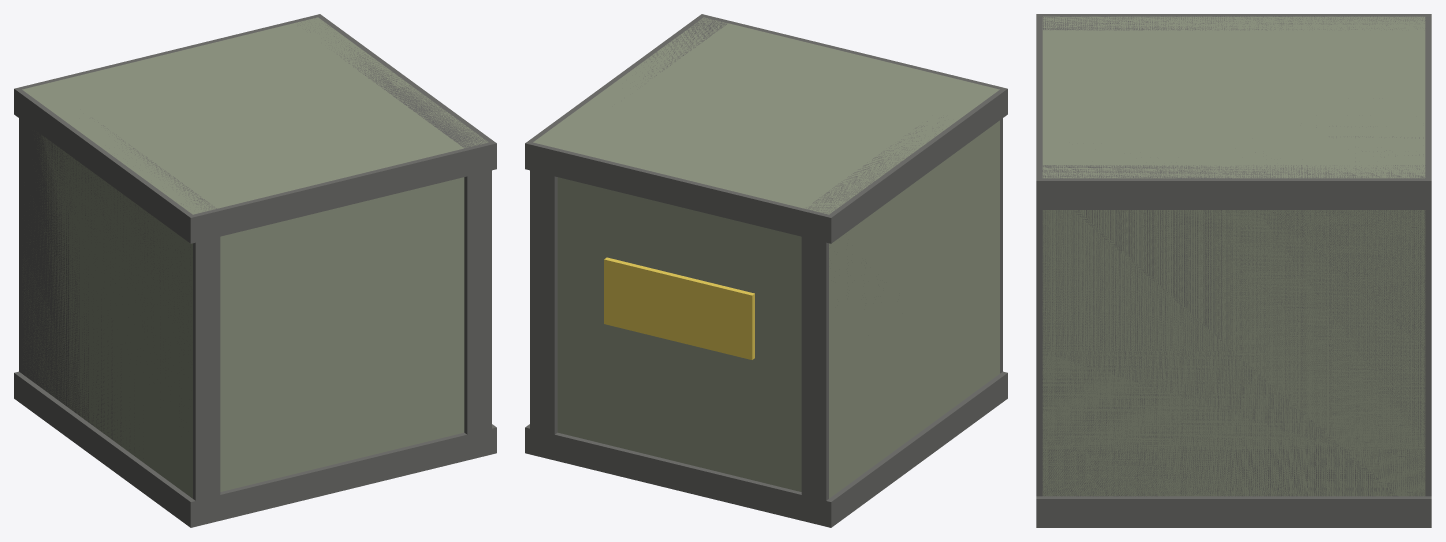
File: Crate.fbx
The picture shows the model from 3 angles, left to right: view 1: azimuth 30°, elevation 25°; view 2: azimuth 150°, elevation 25°; view 3: azimuth 270°, elevation 25°; orthographic projection. The views are drawn at different scales.
Visible parts, largest first — view 1: Crate_Mesh; view 2: Crate_Mesh; view 3: Crate_Mesh.
Boxes of the visible parts, left/top/right/bottom form: Crate_Mesh: left=14, top=14, right=496, bottom=527; Crate_Mesh: left=525, top=14, right=1007, bottom=527; Crate_Mesh: left=1036, top=14, right=1431, bottom=527.
Bounding box in the file's own units: 1.24 × 1.24 × 1.2.
